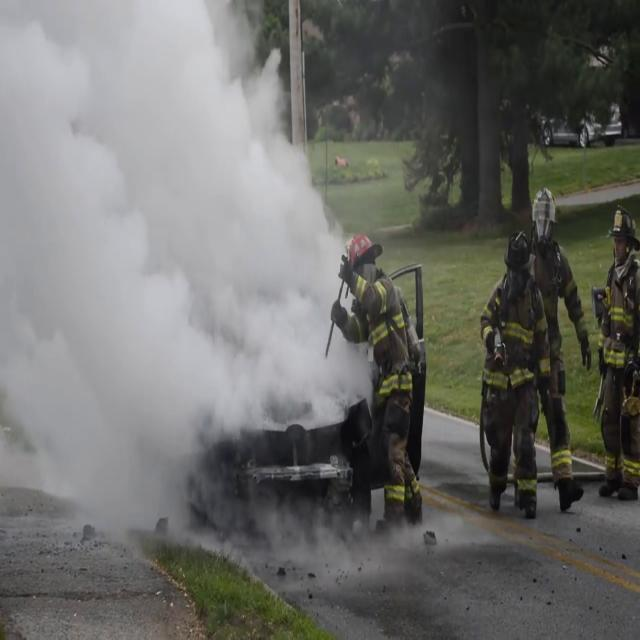Smoke: (0, 0, 371, 549)
